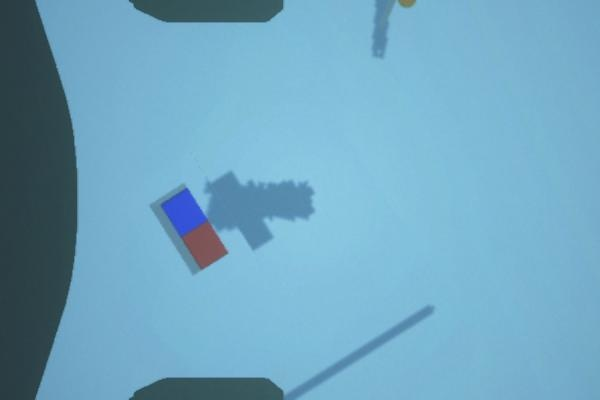bin: (130, 160, 256, 296)
bin_bleue: (160, 188, 206, 238)
bin_rouge: (182, 221, 226, 269)
path: (398, 0, 416, 8)
